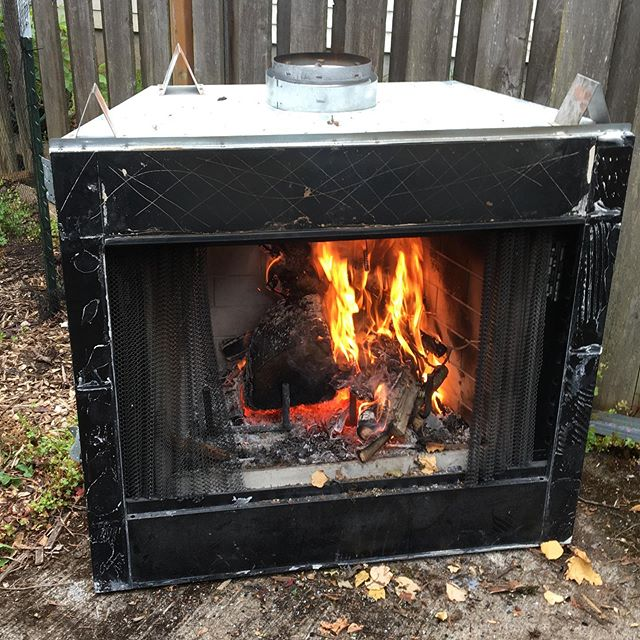fireplace: (151, 222, 522, 481)
